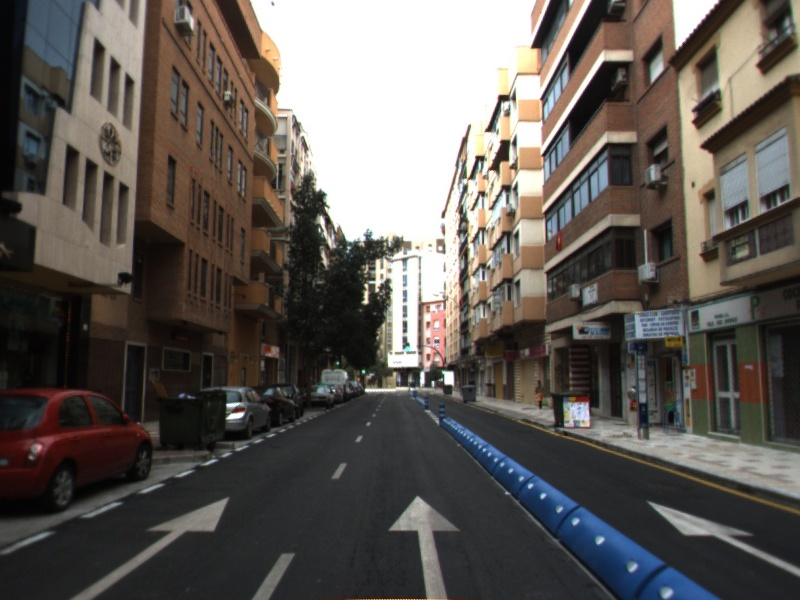STRAIGHT: (68, 495, 231, 600), (644, 499, 800, 579), (386, 494, 463, 600)
